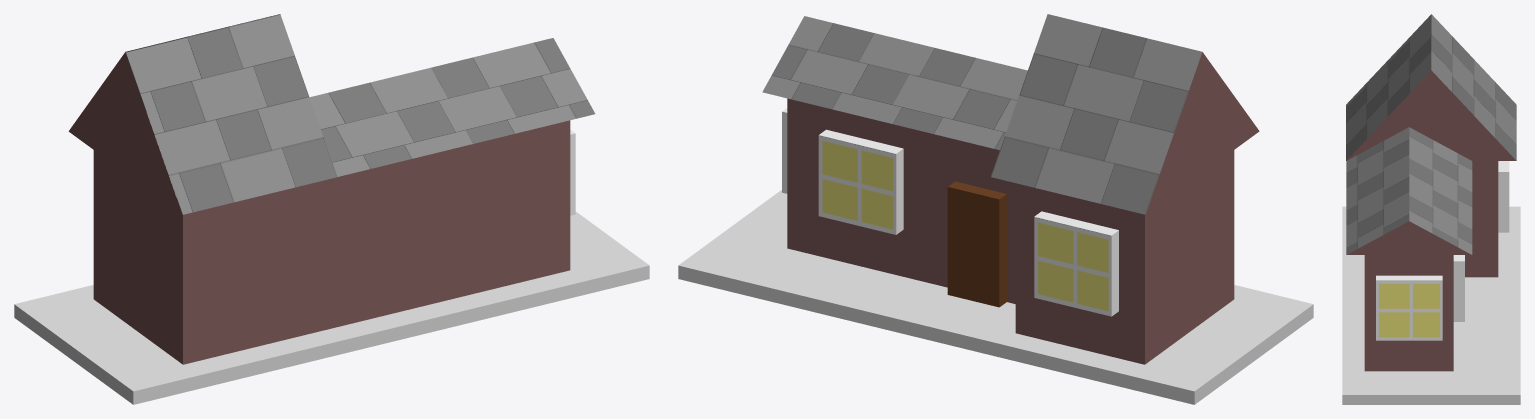
File: house.fbx
3 renders of one model, left to right at view 1: azimuth 30°, elevation 25°; view 2: azimuth 150°, elevation 25°; view 3: azimuth 270°, elevation 25°, orthographic. The views are drawn at different scales.
Parts seen in each view (by area): view 1: house1, house2, roof2, floor, roof1, roof2.s2; view 2: floor, roof2, house2, house1, roof1, window1, window2, roof2.s2, door1; view 3: floor, roof1, roof2, house1, roof2.s1, window3, house2, roof1.s1, window2, window1.
Part boxes in pixels (<box>): house1: <box>312,120,570,333</box>; house2: <box>93,129,312,364</box>; roof2: <box>125,14,337,214</box>; floor: <box>14,211,649,404</box>; roof1: <box>309,38,595,176</box>; roof2.s2: <box>68,52,182,214</box>; floor: <box>678,190,1313,404</box>; roof2: <box>991,14,1202,214</box>; house2: <box>1015,150,1234,364</box>; house1: <box>787,98,1015,303</box>; roof1: <box>762,16,1027,150</box>; window1: <box>818,129,903,234</box>; window2: <box>1034,211,1118,316</box>; roof2.s2: <box>1145,52,1259,214</box>; door1: <box>947,181,1006,307</box>; floor: <box>1342,206,1520,404</box>; roof1: <box>1346,127,1472,254</box>; roof2: <box>1346,14,1516,160</box>; house1: <box>1364,255,1453,371</box>; roof2.s1: <box>1346,70,1515,160</box>; window3: <box>1376,275,1442,340</box>; house2: <box>1465,161,1498,277</box>; roof1.s1: <box>1347,221,1471,254</box>; window2: <box>1498,161,1509,232</box>; window1: <box>1453,255,1464,321</box>.
Size of the model in its own units: 1600 by 4000 by 2198.
